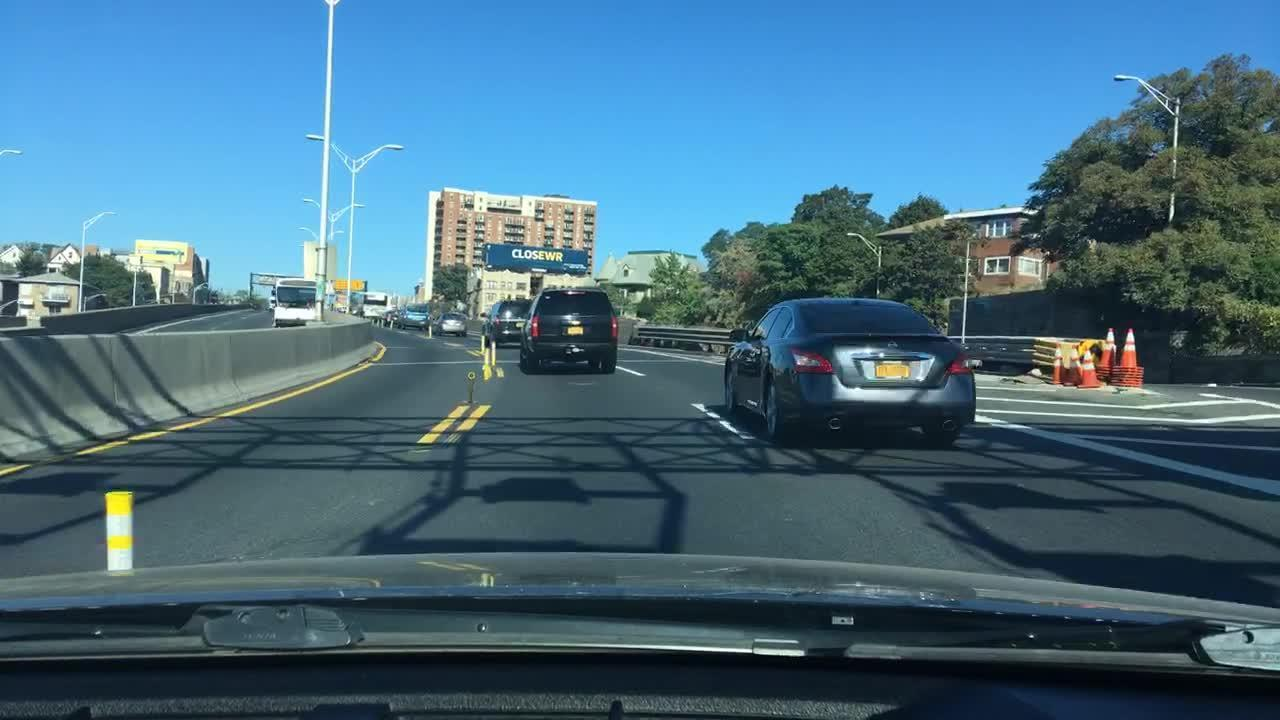chevrolet: (565, 317, 584, 327)
